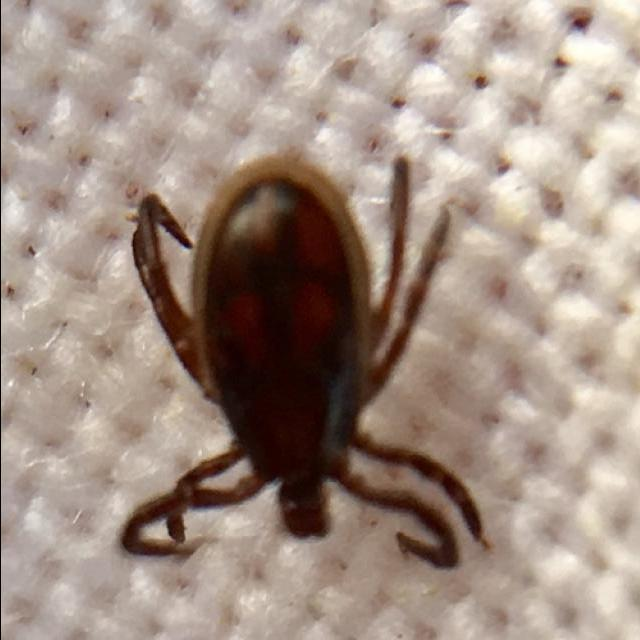Ixodes Ricinus-M: (119, 151, 490, 571)
